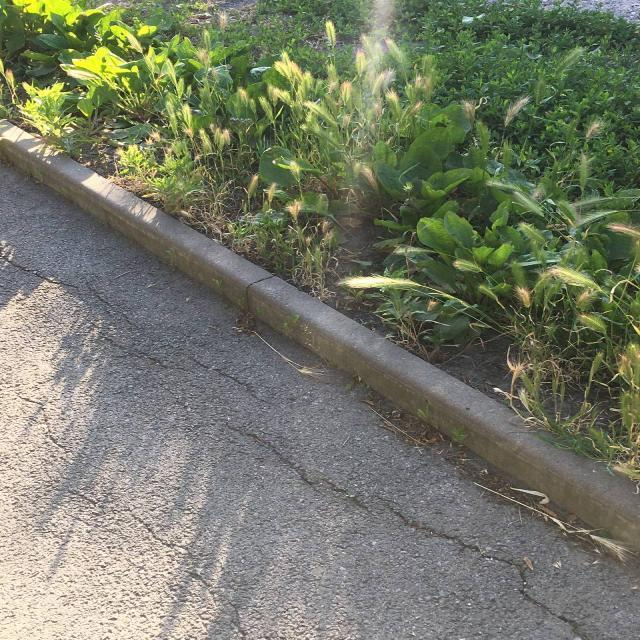bump: (413, 389, 639, 550), (254, 284, 429, 414), (144, 220, 291, 328)
